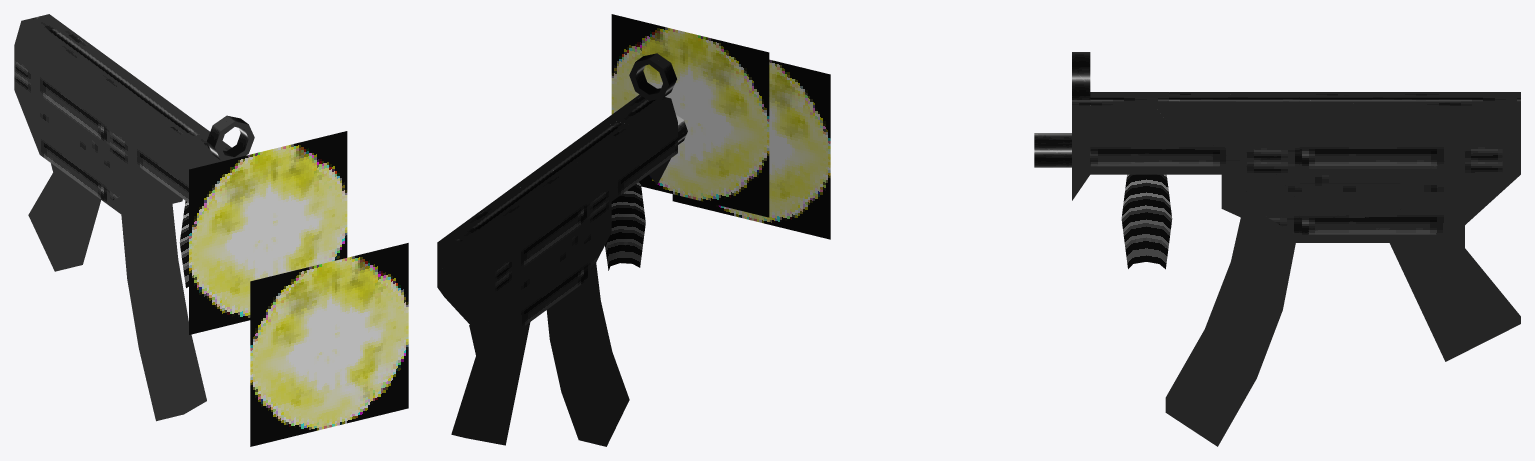
File: Gmp5kZ.obj
3 views of the same model, side by side, from view 1: azimuth 30°, elevation 25°; view 2: azimuth 150°, elevation 25°; view 3: azimuth 270°, elevation 25° (orthographic). The views are drawn at different scales.
Size of the model in its own units: 158 by 328 by 509.
13 materials, 13 textured.
